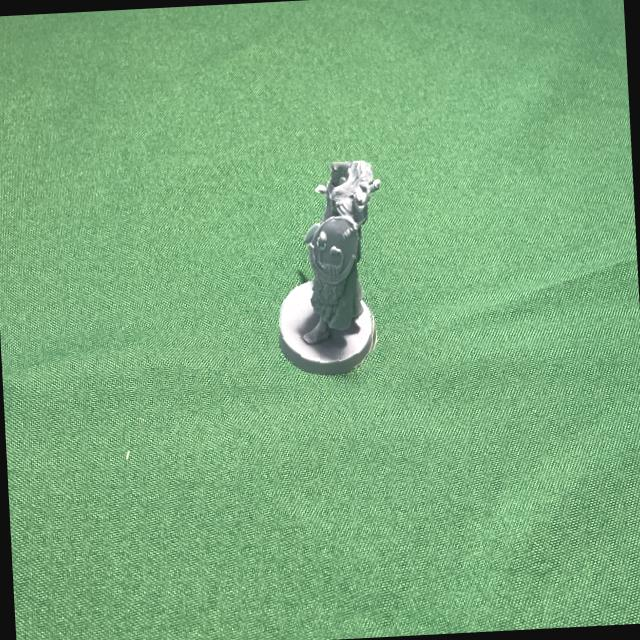isis_follower: (272, 159, 382, 378)
